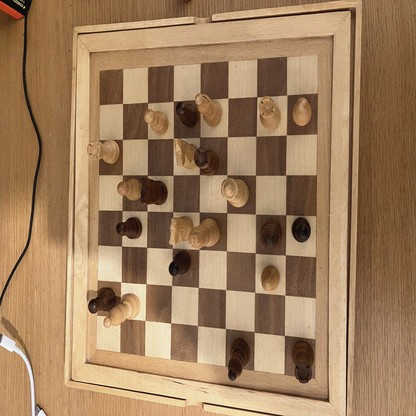bishop_black: (228, 338, 251, 379)
bishop_white: (104, 293, 140, 328), (195, 95, 224, 127)
king_white: (188, 219, 221, 249)
knight_black: (141, 175, 168, 206)
knight_white: (175, 138, 197, 170), (168, 217, 193, 245)
pawn_black: (88, 289, 114, 312), (116, 216, 141, 239), (168, 252, 191, 275), (176, 102, 197, 127), (292, 217, 310, 243)
pawn_white: (262, 264, 282, 292), (292, 98, 311, 126), (118, 179, 141, 201), (145, 110, 167, 131)
queen_white: (221, 179, 249, 207)
rock_black: (293, 340, 314, 383), (195, 147, 220, 175)
rock_white: (88, 140, 120, 165), (259, 98, 281, 131)
